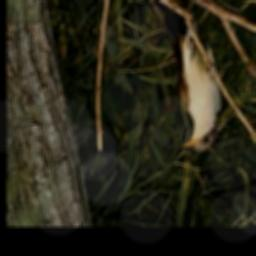Cuckoo: (137, 0, 224, 154)
